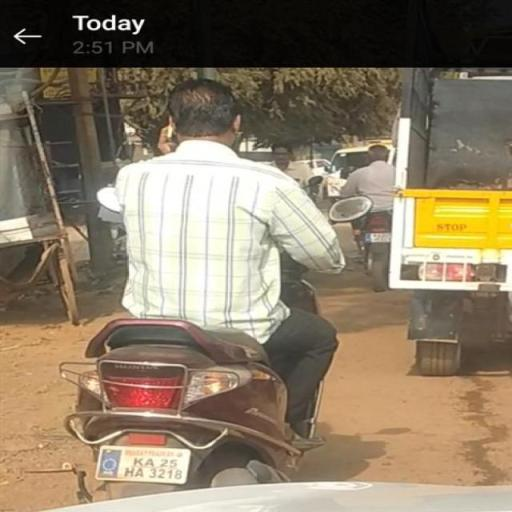numberplate: (97, 442, 187, 489)
using mobile: (152, 113, 180, 159)
